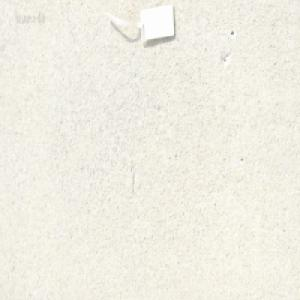LuggageTag: (101, 3, 175, 49)
